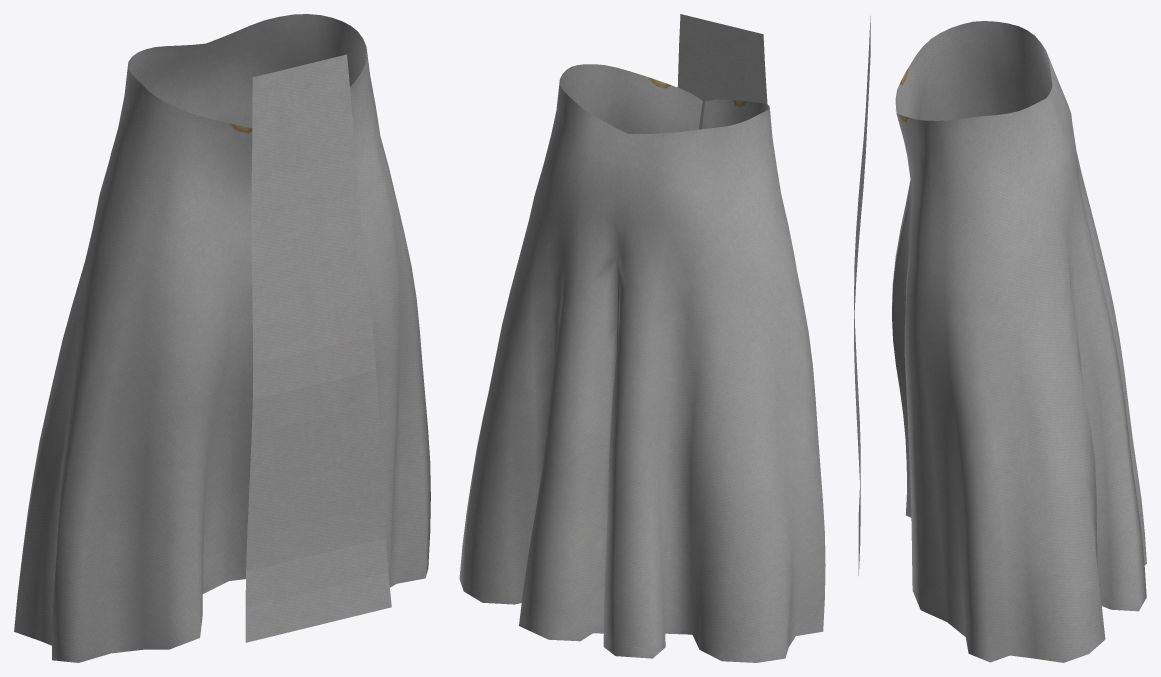
Rendered from rivendell_body_clo.fbx.
The picture shows the model from 3 angles, left to right: view 1: azimuth 30°, elevation 25°; view 2: azimuth 150°, elevation 25°; view 3: azimuth 270°, elevation 25°; orthographic projection. The views are drawn at different scales.
Visible parts, largest first — view 1: rivendell_body_clo; view 2: rivendell_body_clo; view 3: rivendell_body_clo.
Boxes of the visible parts, x1=… form: rivendell_body_clo: x1=14, y1=14, x2=430, y2=662; rivendell_body_clo: x1=459, y1=14, x2=825, y2=662; rivendell_body_clo: x1=854, y1=16, x2=1146, y2=662.
Bounding box in the file's own units: 0.6018 × 0.4463 × 0.9285.
Materials: 1 (1 with a texture image).
